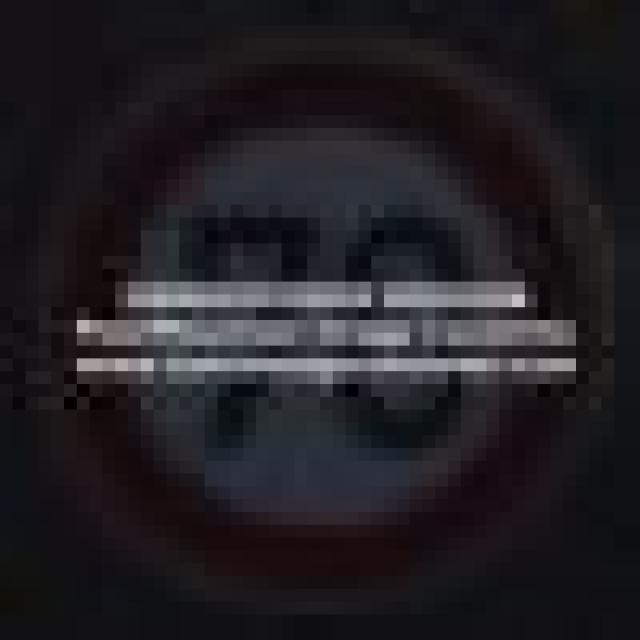SPEED_LIMIT_70: (51, 26, 602, 627)
